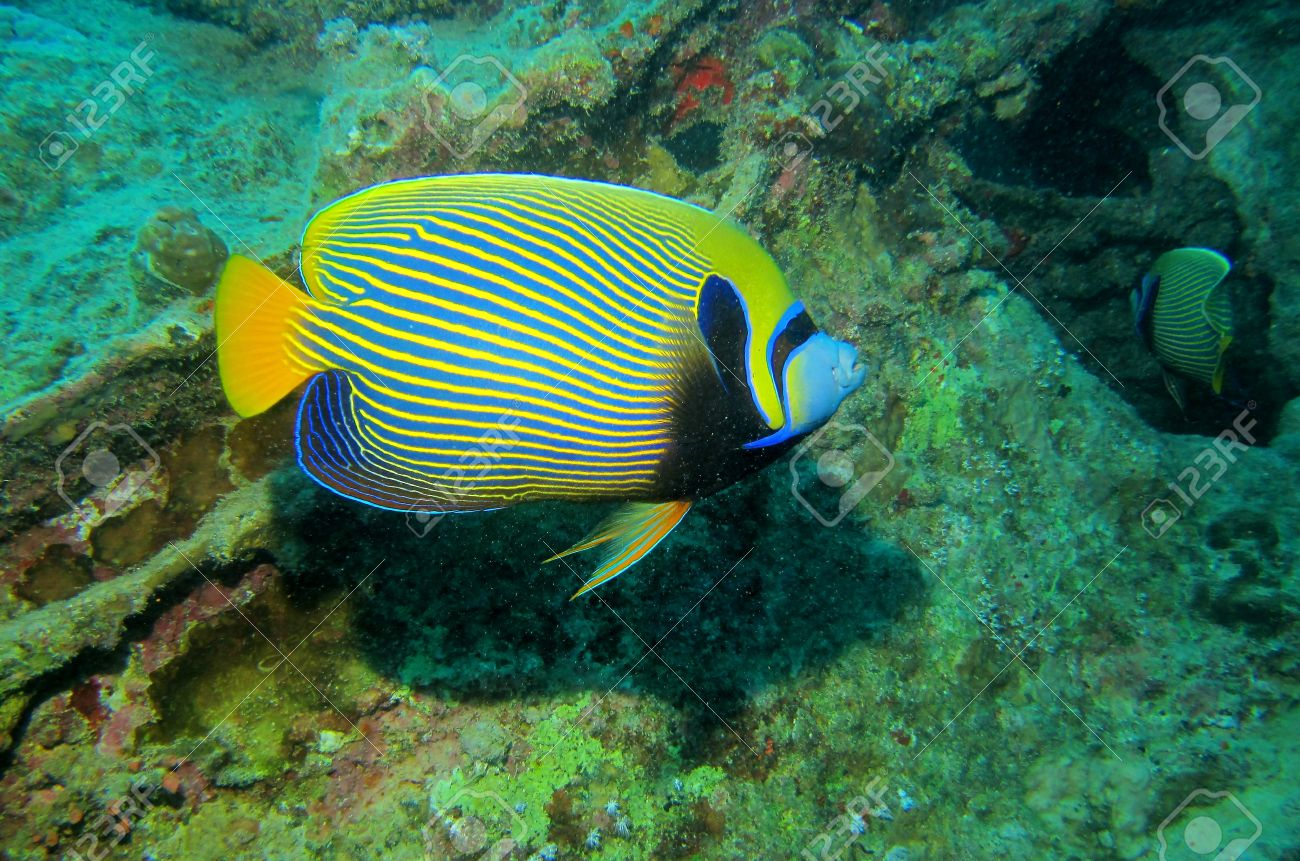Pomacanthus_imperator: (165, 145, 893, 576)
